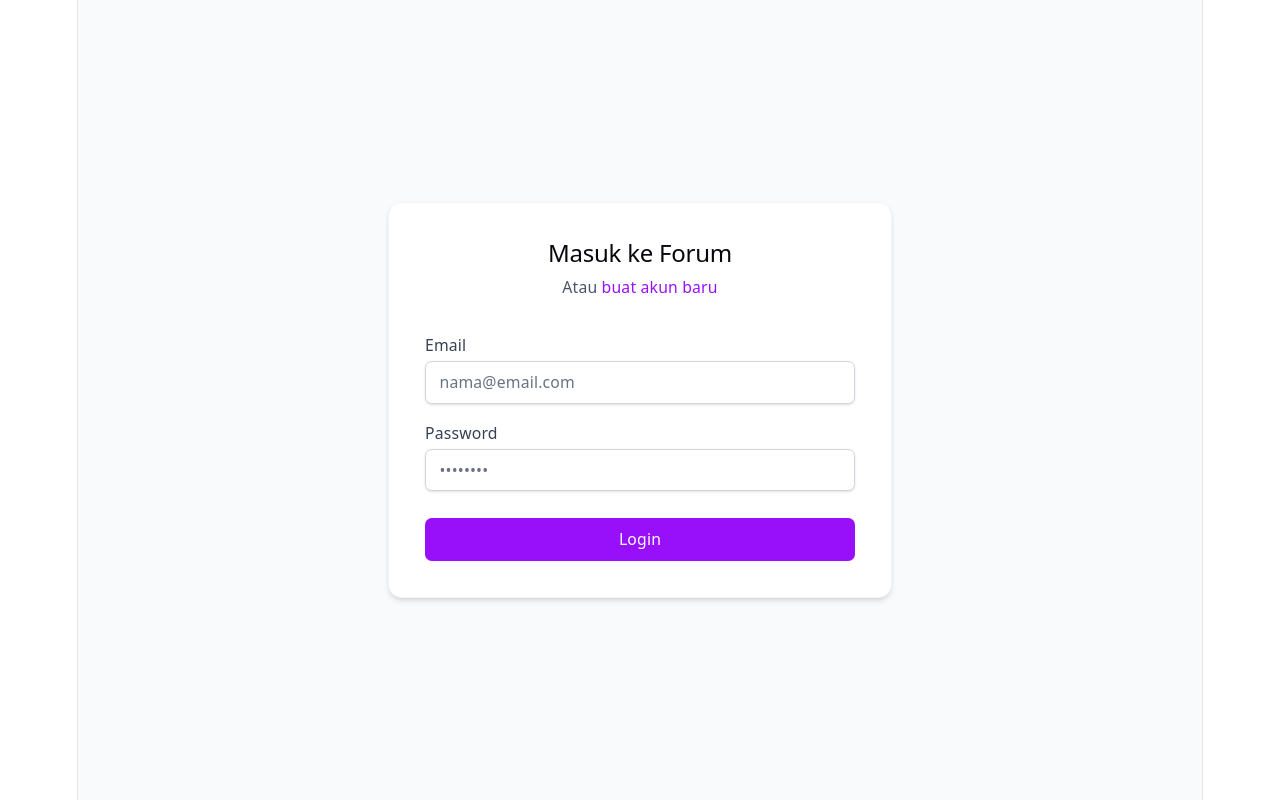
Test: Login spec › should display homepage when email and password are correct
Type "rahardjo@gmail.com" into the field with test id "email-input". click: {"x": 640, "y": 383}
box: [425,361,855,404]
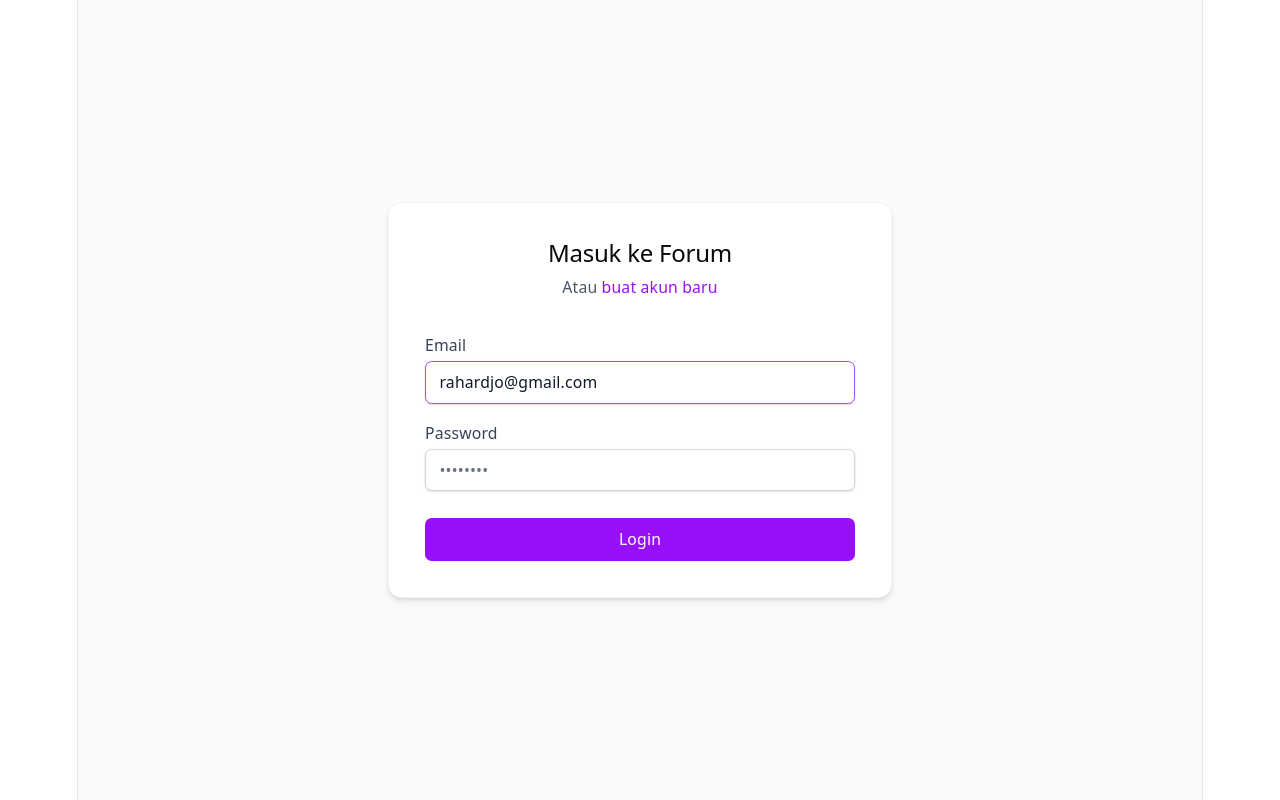
Type "123123" into the password field with test id "password-input". click: {"x": 640, "y": 471}
box: [425,449,855,492]
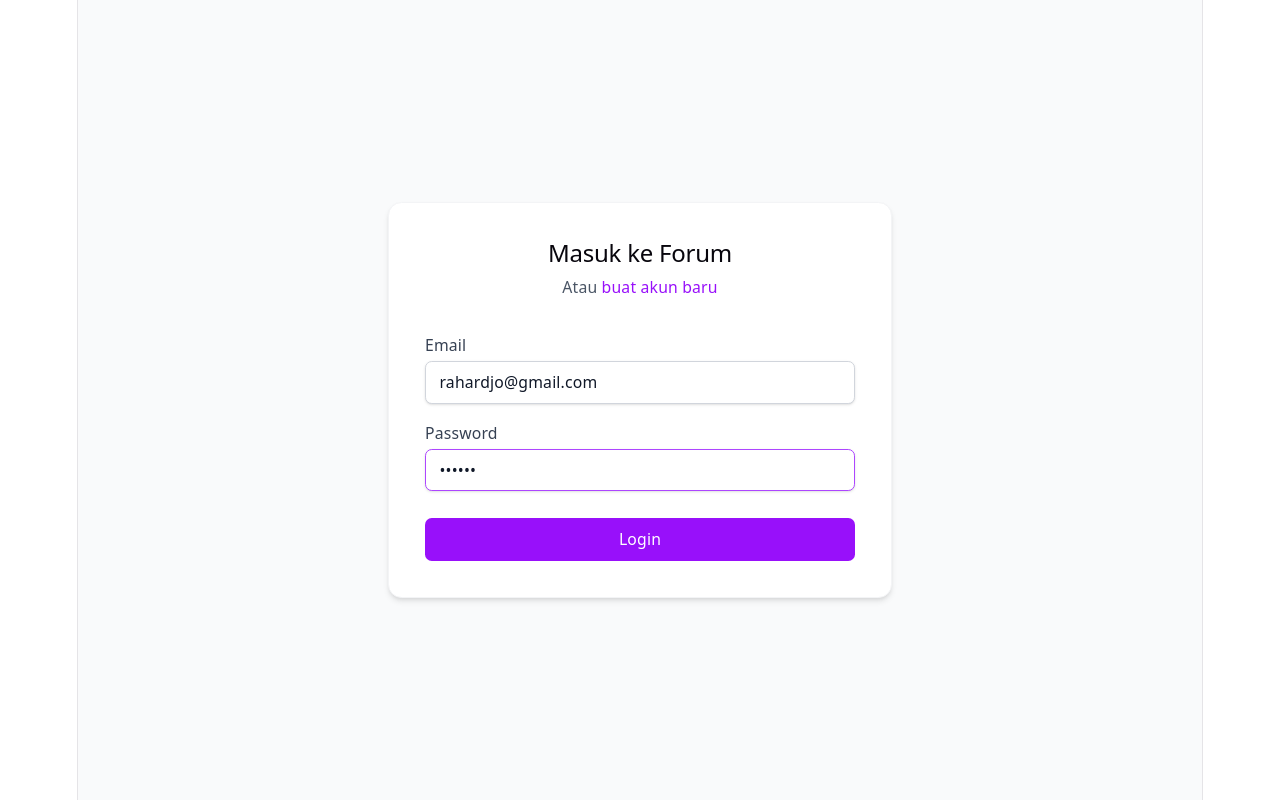
Click the button with test id "login-button". click: {"x": 640, "y": 540}
box: [425,518,855,561]
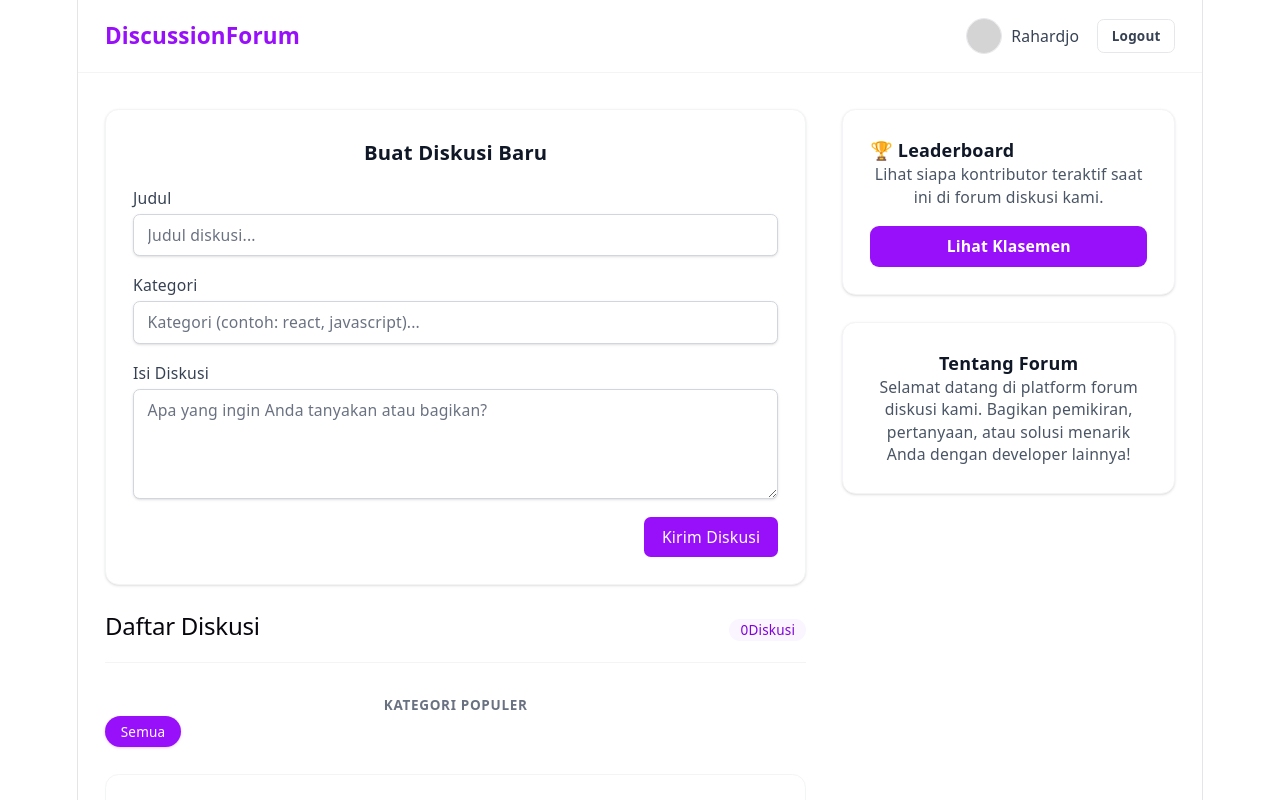
Result: the text "DiscussionForum" is shown at [105,20,300,52]
